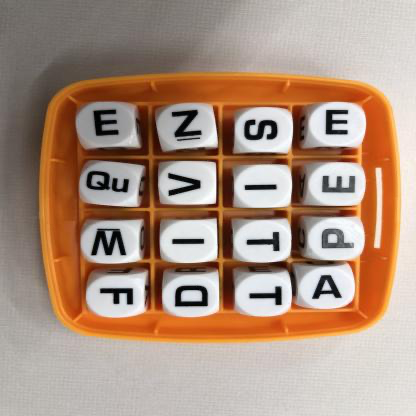a: (301, 270, 353, 306)
d: (167, 276, 218, 315)
e: (82, 105, 137, 147), (312, 106, 364, 148), (311, 165, 363, 204)
f: (91, 278, 139, 316)
i: (235, 168, 289, 207), (163, 224, 216, 262)
p: (310, 220, 362, 259)
qu: (81, 164, 138, 206)
s: (239, 112, 290, 153)
t: (237, 222, 289, 260), (238, 275, 287, 315)
v: (160, 164, 215, 204)
w: (86, 222, 137, 262)
z: (159, 109, 215, 149)
